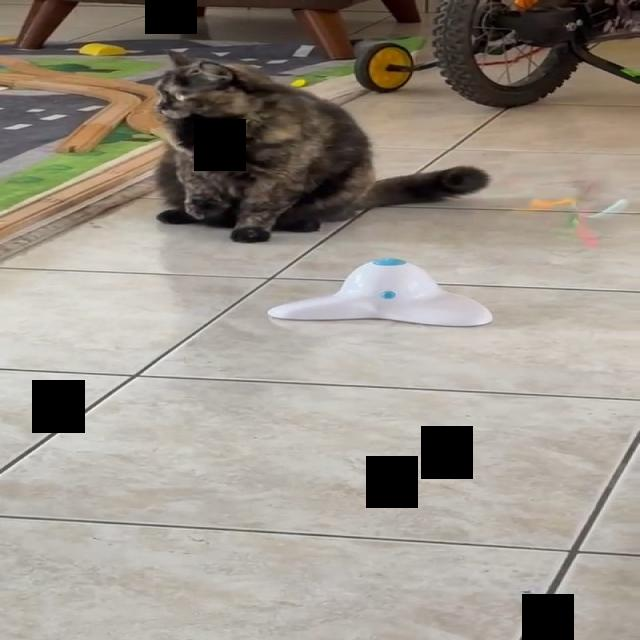authorized: (150, 50, 490, 243)
